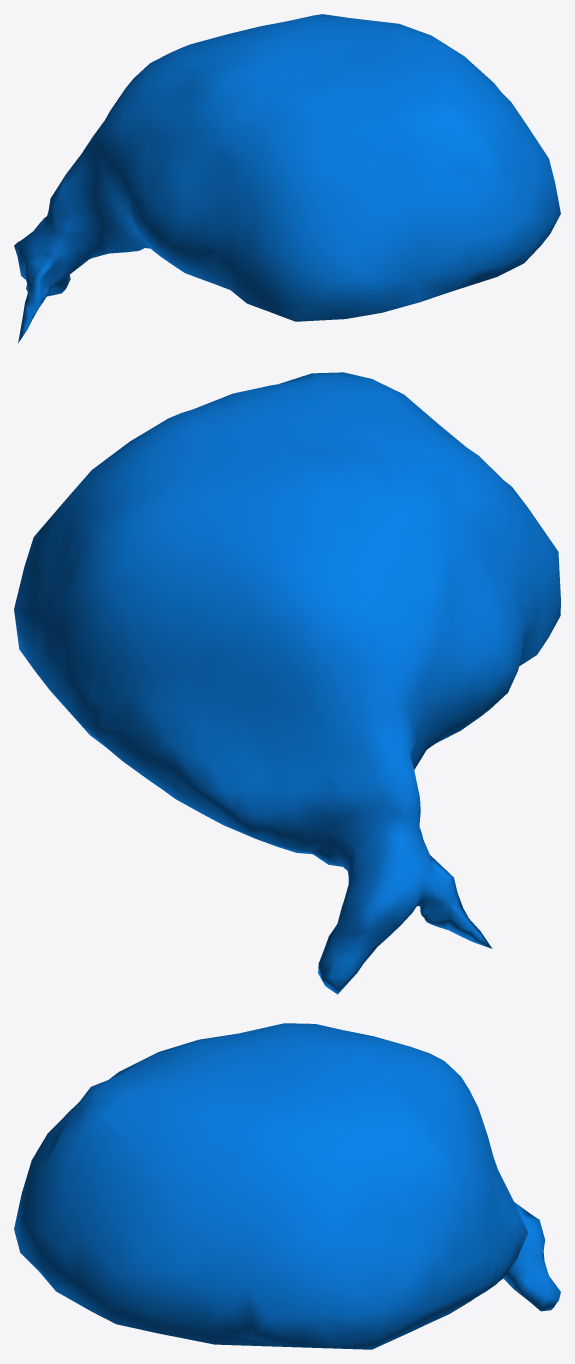
Rendered from rag.glb.
3 renders of one model, top to bottom at view 1: azimuth 30°, elevation 25°; view 2: azimuth 150°, elevation 25°; view 3: azimuth 270°, elevation 25°, orthographic. The views are drawn at different scales.
Parts seen in each view (by area): view 1: Rag; view 2: Rag; view 3: Rag.
Part boxes in pixels (x1,y1,x2,y2): Rag: (14,14,560,343); Rag: (14,372,560,994); Rag: (14,1023,560,1349).
Bounding box in the file's own units: 0.8708 × 0.5936 × 0.889.
